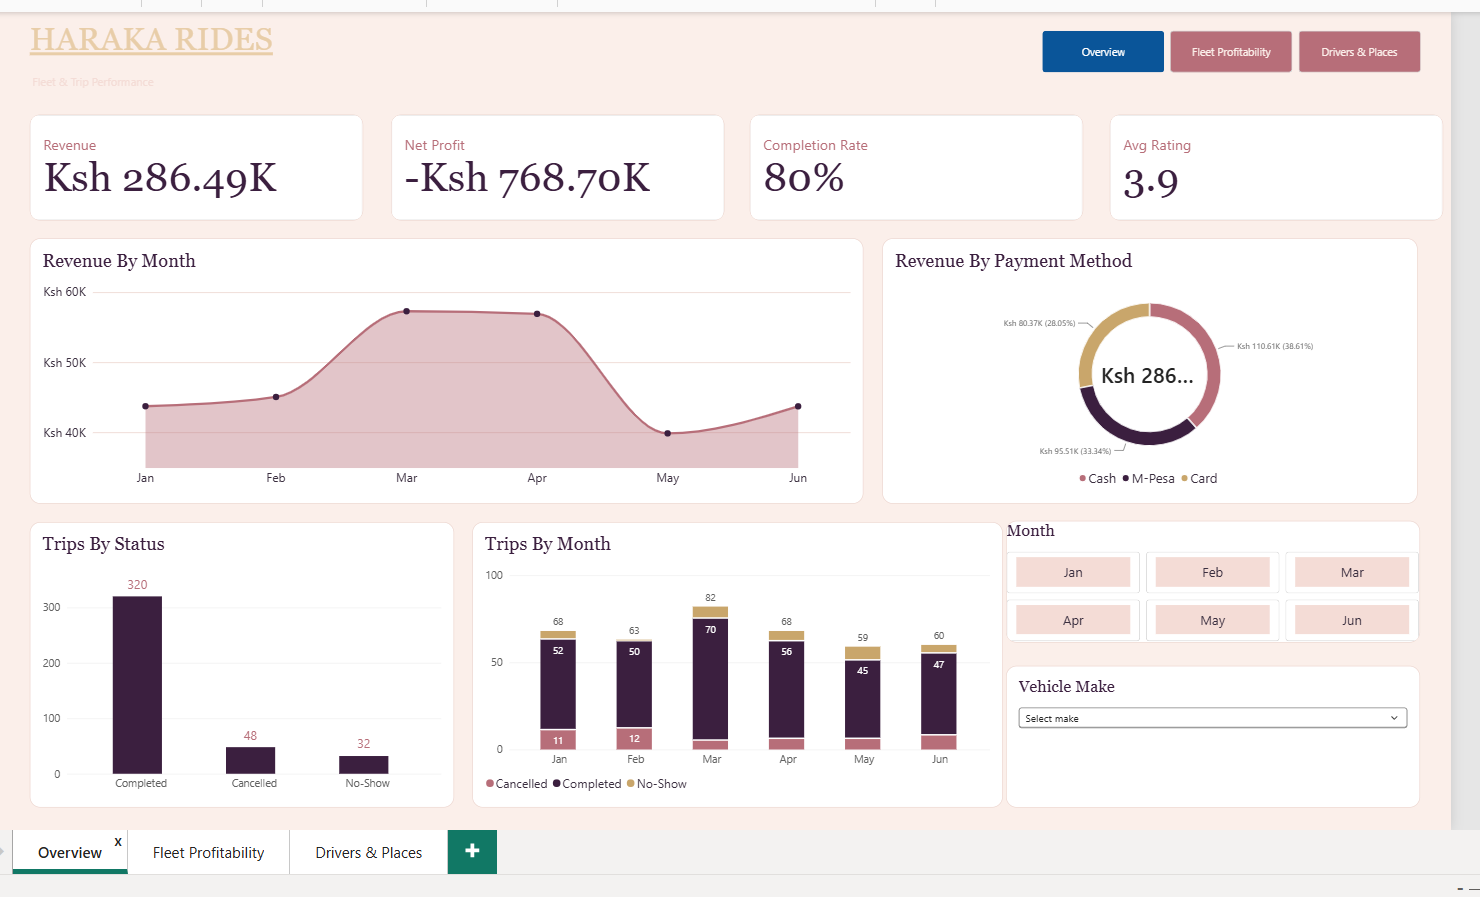

Layout of this report page (visuals, bound fields, positions):
{"tool":"powerbi","page":{"name":"Overview","canvas":[1920,1080],"ordinal":0},"visuals":[{"type":"textbox","box":[45,12,1457.1,70],"z":0},{"type":"textbox","box":[13,216,1457,152],"z":1000},{"type":"textbox","box":[48.3,62,218.3,51.7],"z":2000},{"type":"cardVisual","fields":{"Data":["haraka_booking customers.Revenue"]},"box":[45,135,440,140],"z":3000},{"type":"cardVisual","fields":{"Data":["haraka_booking customers.Net Profit"]},"box":[521.7,135,440,140],"z":4000},{"type":"cardVisual","fields":{"Data":["haraka_booking customers.Completion Rate"]},"box":[994.4,135,440,140],"z":5000},{"type":"cardVisual","fields":{"Data":["haraka_booking customers.Avg Rating"]},"box":[1470.1,135,440,140],"z":6000},{"type":"areaChart","title":"Revenue By Month","fields":{"Category":["Calendar.Month"],"Y":["haraka_booking customers.Revenue"]},"box":[45,299,1100,350],"z":7000},{"type":"donutChart","title":"Revenue By Payment Method","fields":{"Category":["haraka_booking trips.payment_method"],"Y":["haraka_booking customers.Revenue"]},"box":[1169,299,706,350],"z":8000},{"type":"clusteredColumnChart","title":"Trips By Status","fields":{"Category":["haraka_booking trips.status"],"Y":["haraka_booking customers.Total Trips"]},"box":[45,673,560,377],"z":9000},{"type":"columnChart","title":"Trips By Month","fields":{"Category":["Calendar.Month"],"Series":["haraka_booking trips.status"],"Y":["haraka_booking customers.Total Trips"]},"box":[629,673,700,377],"z":10000},{"type":"advancedSlicerVisual","fields":{"Values":["Calendar.Month"]},"box":[1332.1,671.4,546.4,160.7],"z":11000},{"type":"listSlicer","title":"Vehicle Make","fields":{"Values":["haraka_fleet vehicles.make"]},"box":[1332,862.4,546.3,187.2],"z":12000},{"type":"pageNavigator","box":[1380,25,500,55],"z":12001}]}

Visuals, with their boxes on the page's 1920x1080 design canvas (x1, y1, x2, y2). These are canvas units, not pixel positions in the 1480x897 screenshot, which may show the page scaled, cropped or inside an application window:
textbox: (left=45, top=12, right=1502, bottom=82)
textbox: (left=13, top=216, right=1470, bottom=368)
textbox: (left=48, top=62, right=267, bottom=114)
cardVisual - haraka_booking customers.Revenue: (left=45, top=135, right=485, bottom=275)
cardVisual - haraka_booking customers.Net Profit: (left=522, top=135, right=962, bottom=275)
cardVisual - haraka_booking customers.Completion Rate: (left=994, top=135, right=1434, bottom=275)
cardVisual - haraka_booking customers.Avg Rating: (left=1470, top=135, right=1910, bottom=275)
"Revenue By Month" areaChart: (left=45, top=299, right=1145, bottom=649)
"Revenue By Payment Method" donutChart: (left=1169, top=299, right=1875, bottom=649)
"Trips By Status" clusteredColumnChart: (left=45, top=673, right=605, bottom=1050)
"Trips By Month" columnChart: (left=629, top=673, right=1329, bottom=1050)
advancedSlicerVisual - Calendar.Month: (left=1332, top=671, right=1878, bottom=832)
"Vehicle Make" listSlicer: (left=1332, top=862, right=1878, bottom=1050)
pageNavigator: (left=1380, top=25, right=1880, bottom=80)
